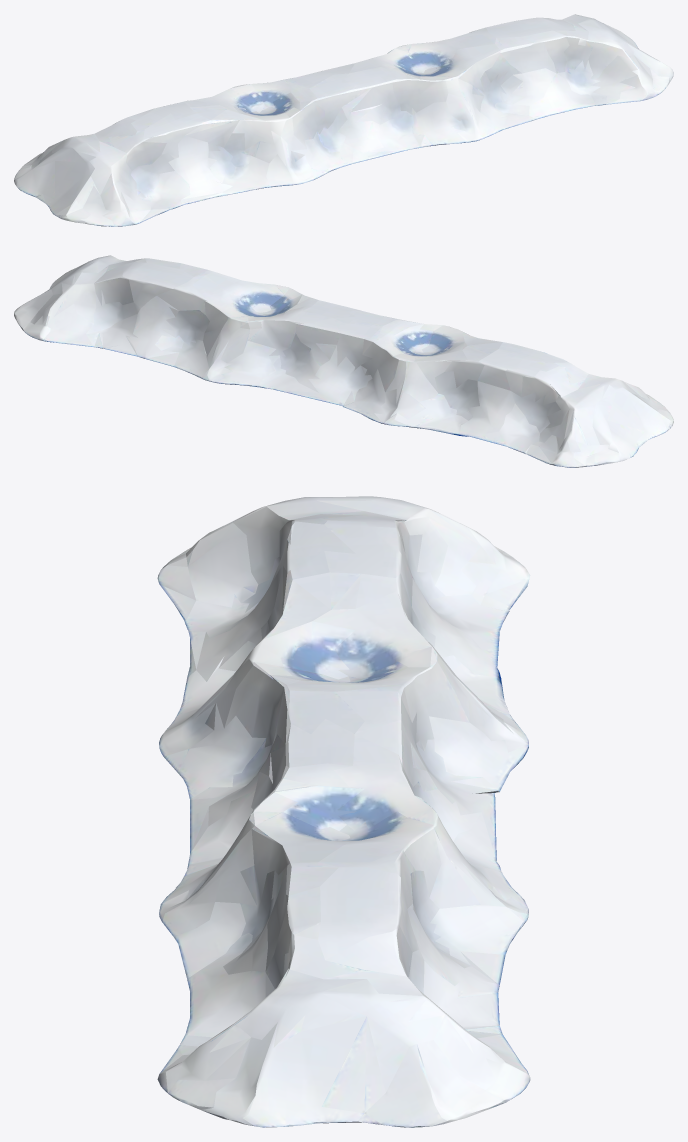
File: drift_long.glb
3 views of the same model, one above another, from view 1: azimuth 30°, elevation 25°; view 2: azimuth 150°, elevation 25°; view 3: azimuth 270°, elevation 25° (orthographic). The views are drawn at different scales.
Size of the model in its own units: 1.9 by 0.1624 by 0.5.
1 material, 1 textured.
